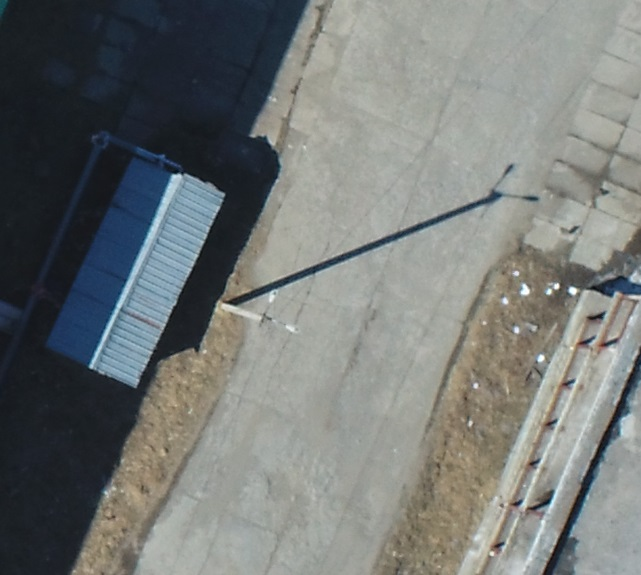opora: (218, 272, 313, 341)
